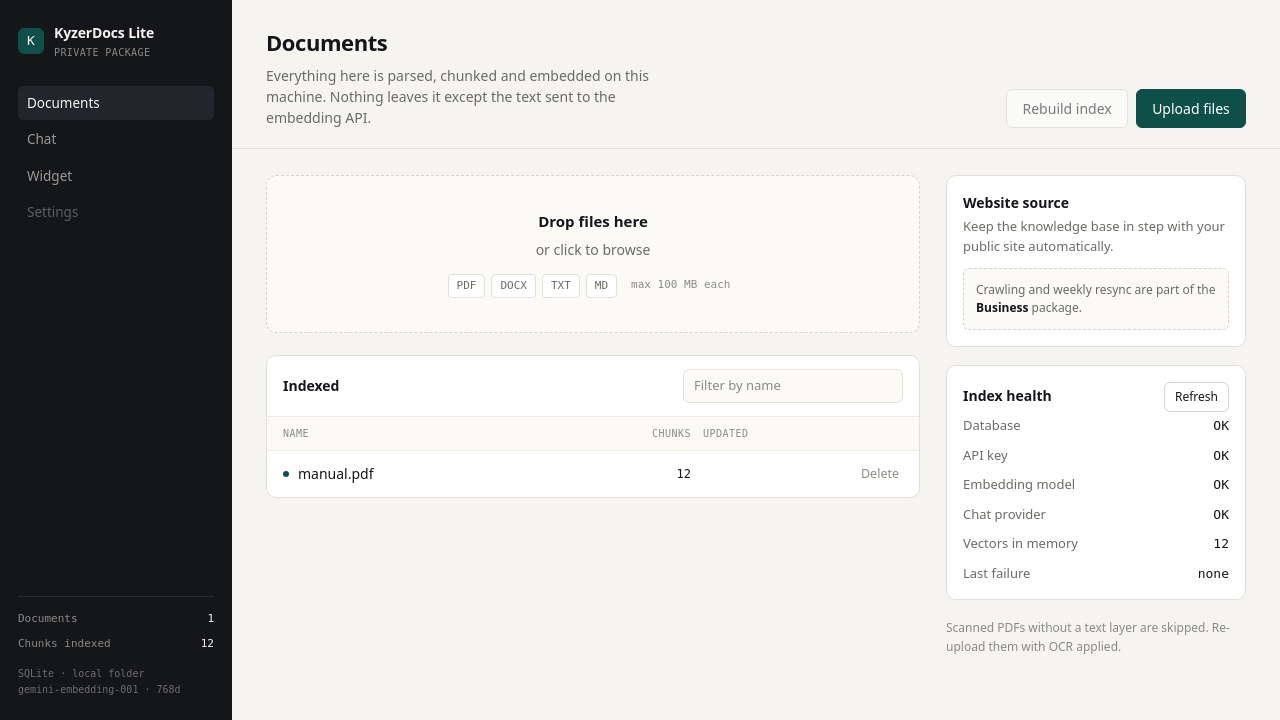
Test: DocumentsPage — delete flow (ING-05) › delete issues DELETE /api/documents/<id> and removes the row on 204
The width and height of the screenshot is (1280, 720).
Expected: the text "manual.pdf" is shown, 298,463 -> 374,484
What coordinates should you click on to do the following:
click the button "Delete"
I would click on:
 (880, 474)
Its box is 857,462 -> 903,485.
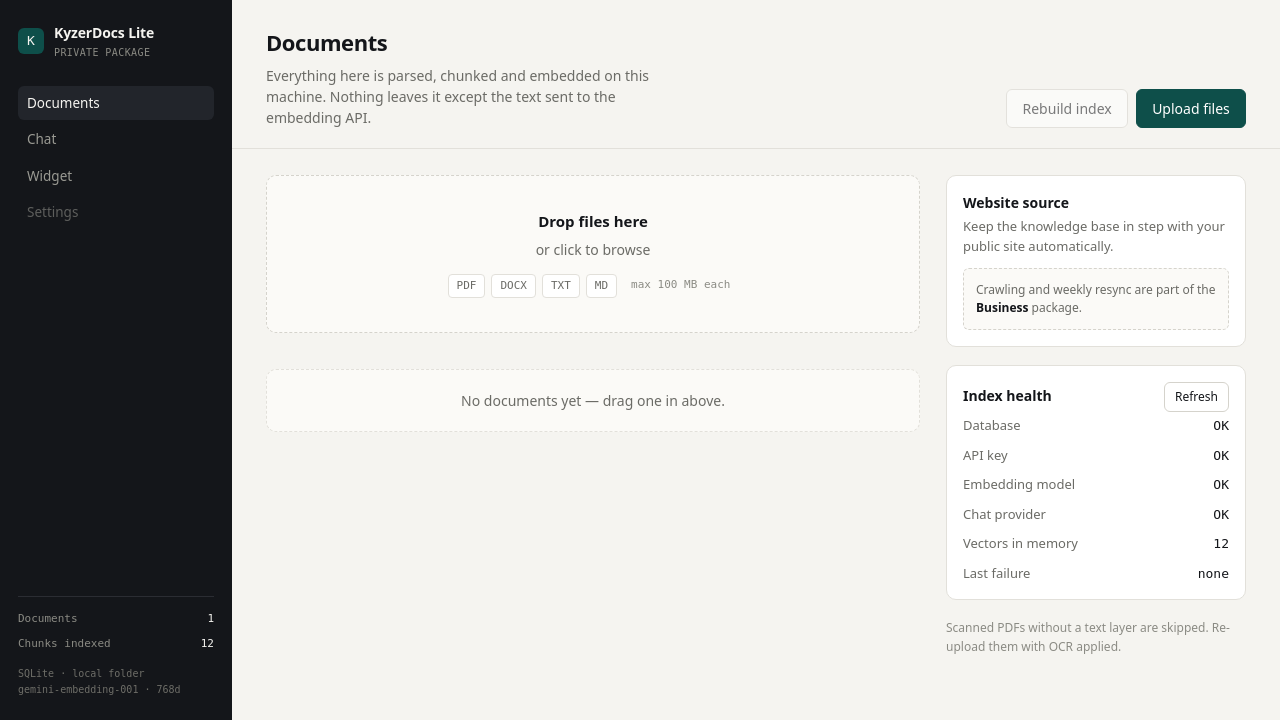
Expected: the text "manual.pdf" is gone
